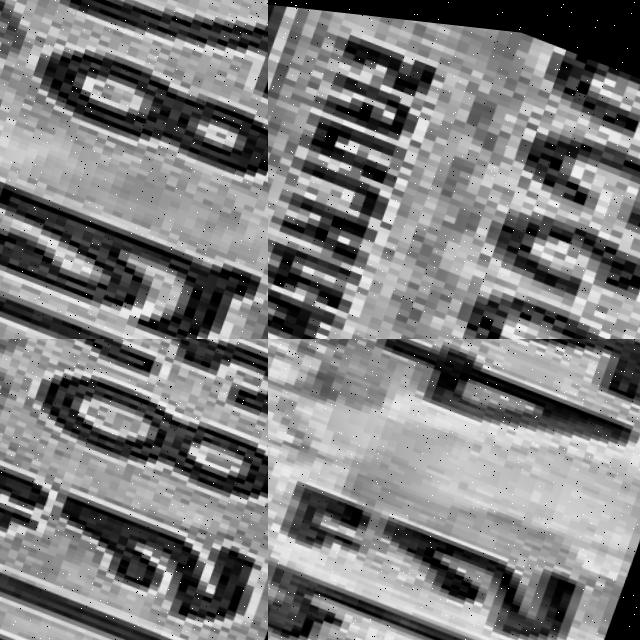license-plate: (268, 0, 640, 339), (268, 339, 640, 640), (0, 0, 268, 339), (0, 339, 268, 640)
